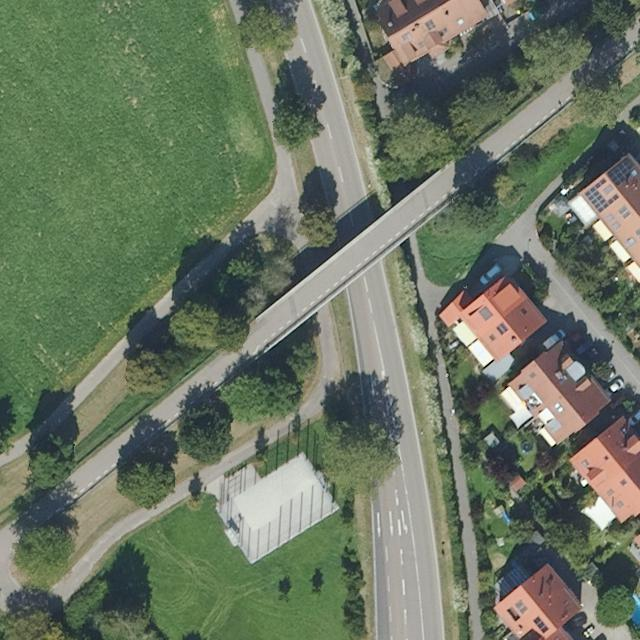PV: (580, 176, 622, 217), (604, 155, 638, 189), (532, 616, 551, 636)
